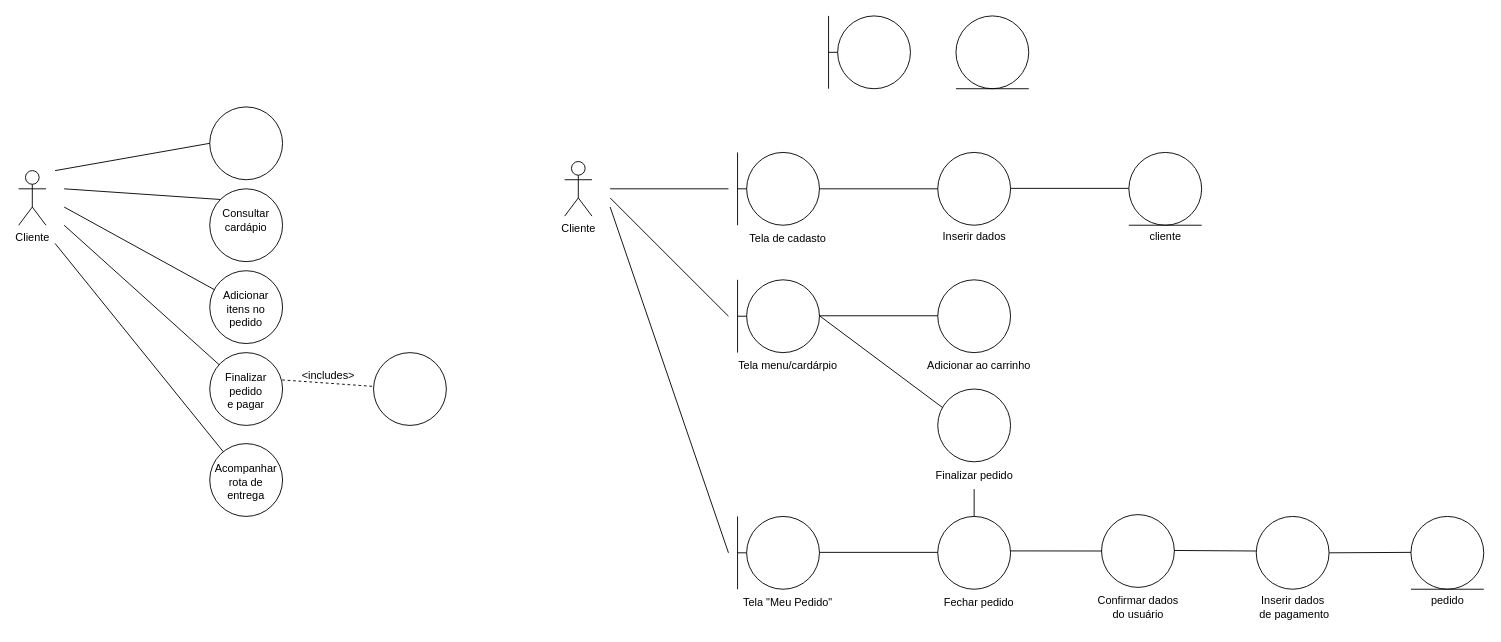
The diagram is 1501 pixels wide and 642 high, and some of its shapes have lost their labels. The centre of each missing label's shape, as x and y in pixels:
"Consultar carrinho (pedido)" belongs at pixel 409 388.
"Criar conta" belongs at pixel 246 143.
